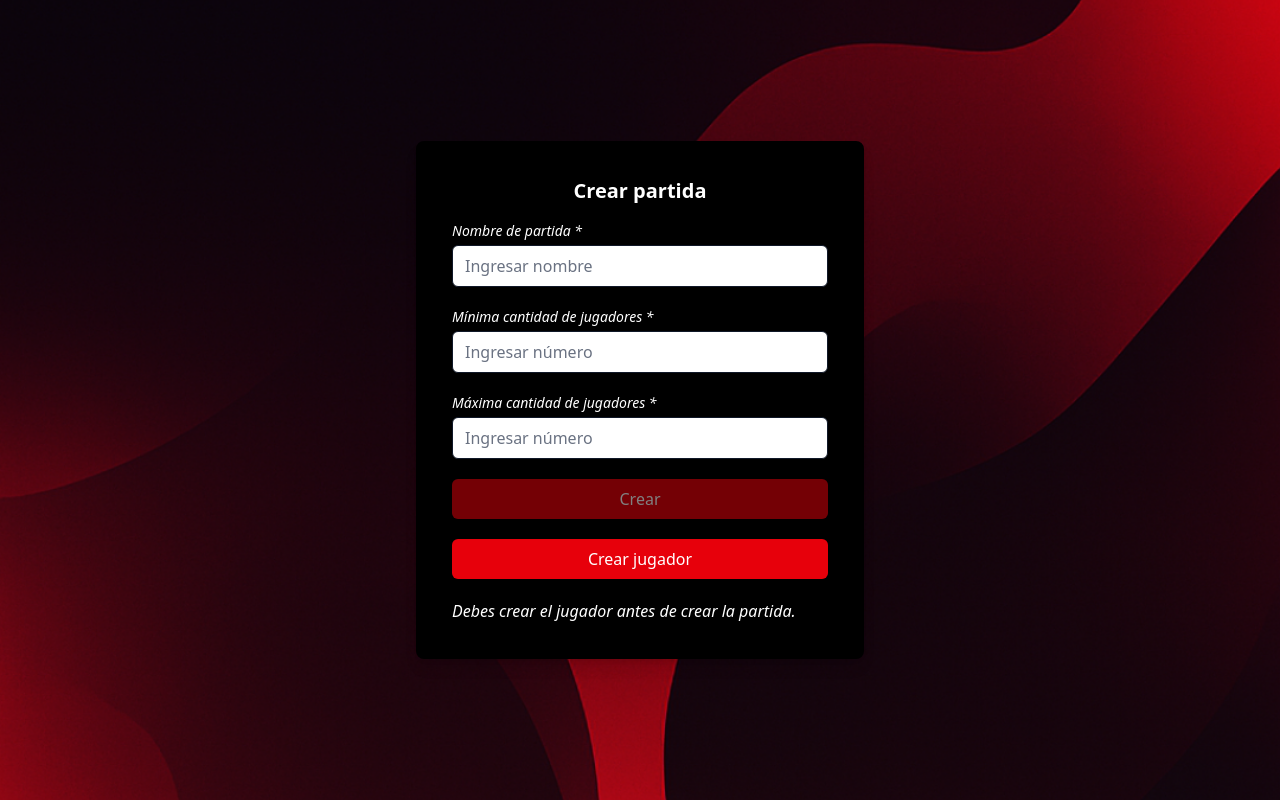
it: GameForm › Renderizado › Se muestra el formulario de creacion de jugador al clickear sobre el boton 'Crear jugador'
Click the button "Crear jugador" at (640, 559), box 452,539 -> 828,579
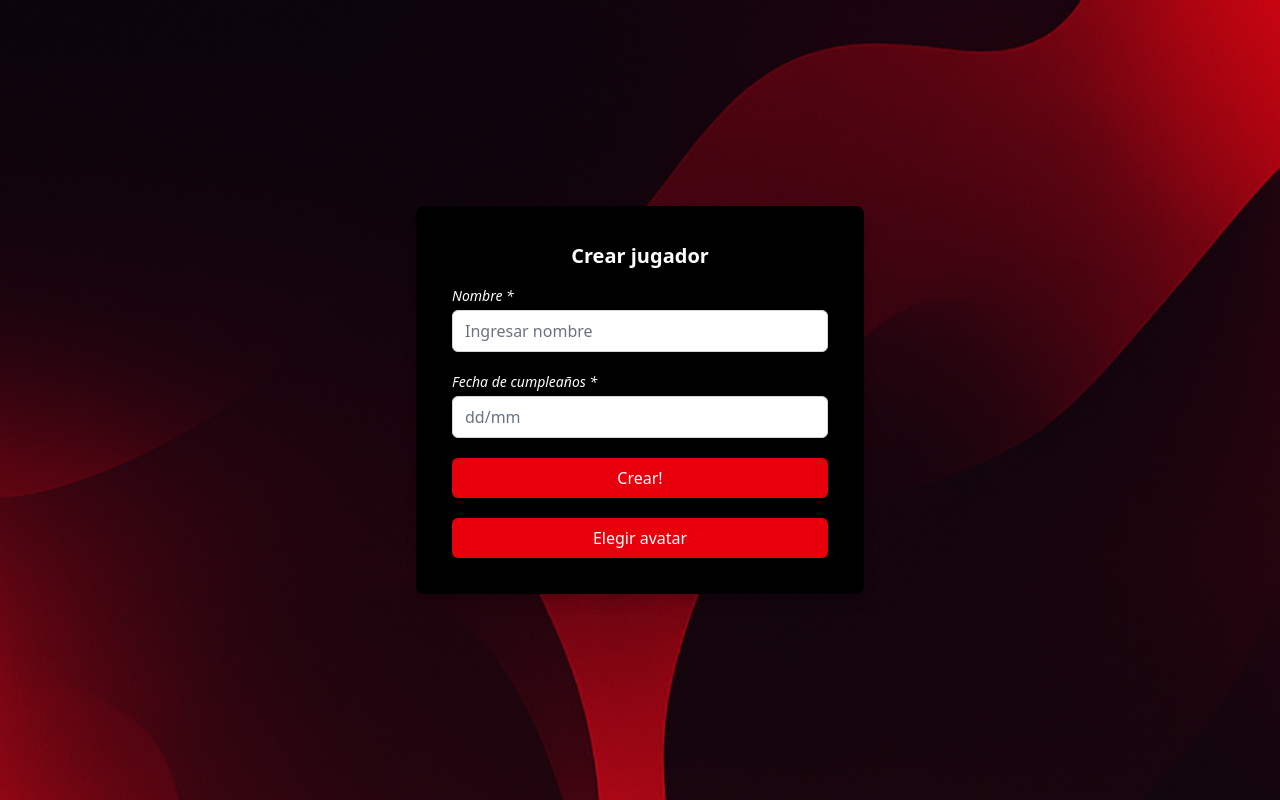
Expected: the field labelled "Fecha de cumpleaños *" is shown, 452,396 -> 828,438
Expected: the button "Crear!" is shown, 452,458 -> 828,498
Expected: the button "Elegir avatar" is shown, 452,518 -> 828,558
